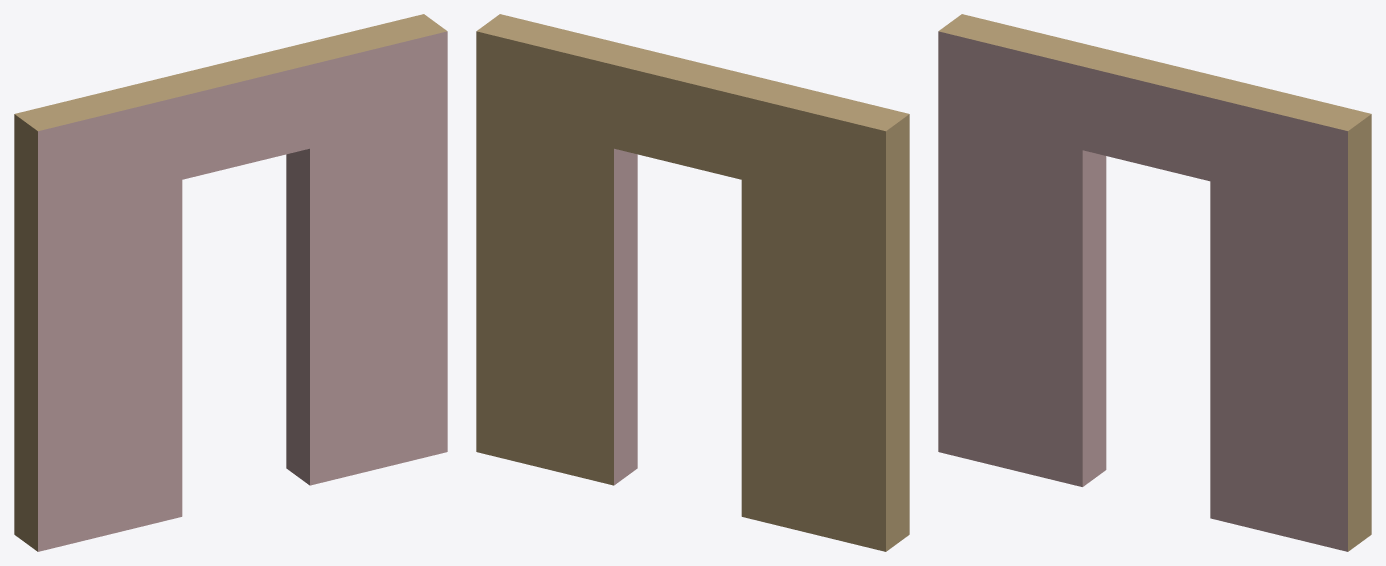
File: house_door_10_10_01.fbx
The picture shows the model from 3 angles, left to right: view 1: azimuth 30°, elevation 25°; view 2: azimuth 150°, elevation 25°; view 3: azimuth 330°, elevation 25°; orthographic projection.
Visible parts, largest first — view 1: house_door_10_10_01; view 2: house_door_10_10_01; view 3: house_door_10_10_01.
Part boxes in pixels (x1=…): house_door_10_10_01: x1=14, y1=14, x2=447, y2=551; house_door_10_10_01: x1=476, y1=14, x2=909, y2=551; house_door_10_10_01: x1=938, y1=14, x2=1371, y2=551.
Bounding box in the file's own units: 10.15 × 9.96 × 1.01.
